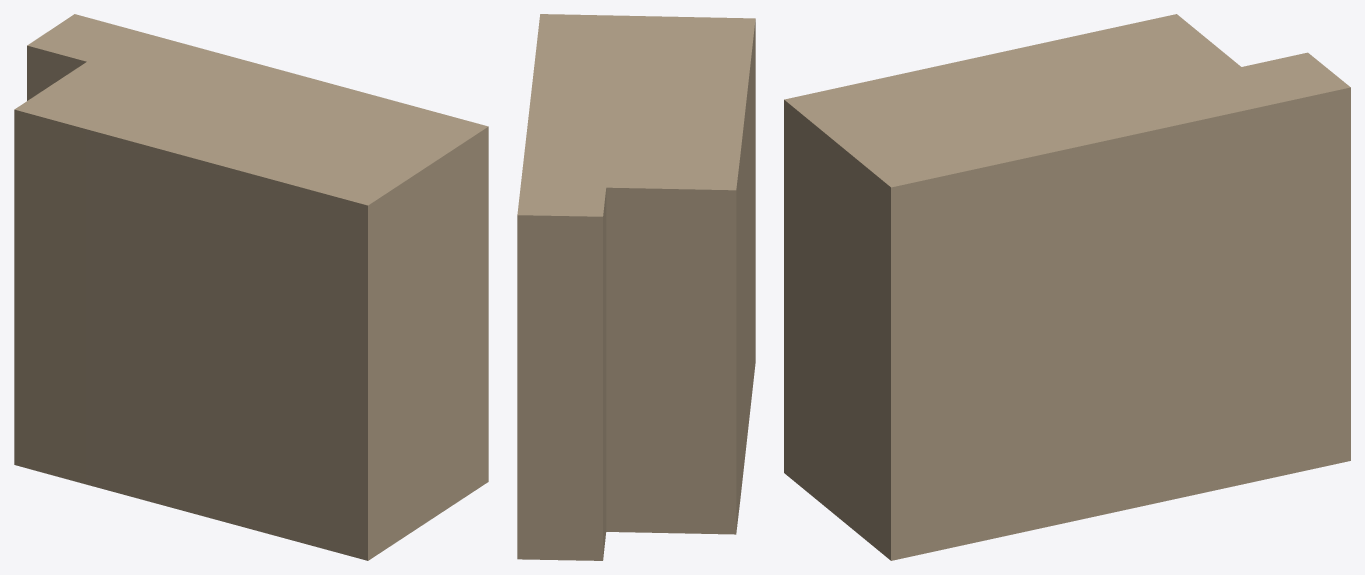
Rendered from bld_106415376.dae.
3 renders of one model, left to right at view 1: azimuth 30°, elevation 25°; view 2: azimuth 150°, elevation 25°; view 3: azimuth 270°, elevation 25°, orthographic. The views are drawn at different scales.
Visible parts, largest first — view 1: bld_106415376; view 2: bld_106415376; view 3: bld_106415376.
Part boxes in pixels (left/top/right/bottom): bld_106415376: left=14, top=14, right=488, bottom=560; bld_106415376: left=517, top=14, right=755, bottom=560; bld_106415376: left=784, top=14, right=1350, bottom=560.
Bounding box in the file's own units: 7.97 × 11 × 8.
